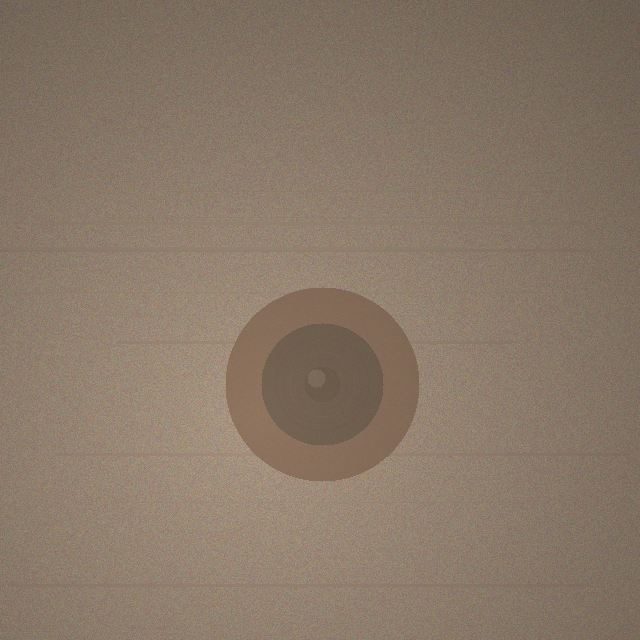good: (225, 287, 419, 481)
